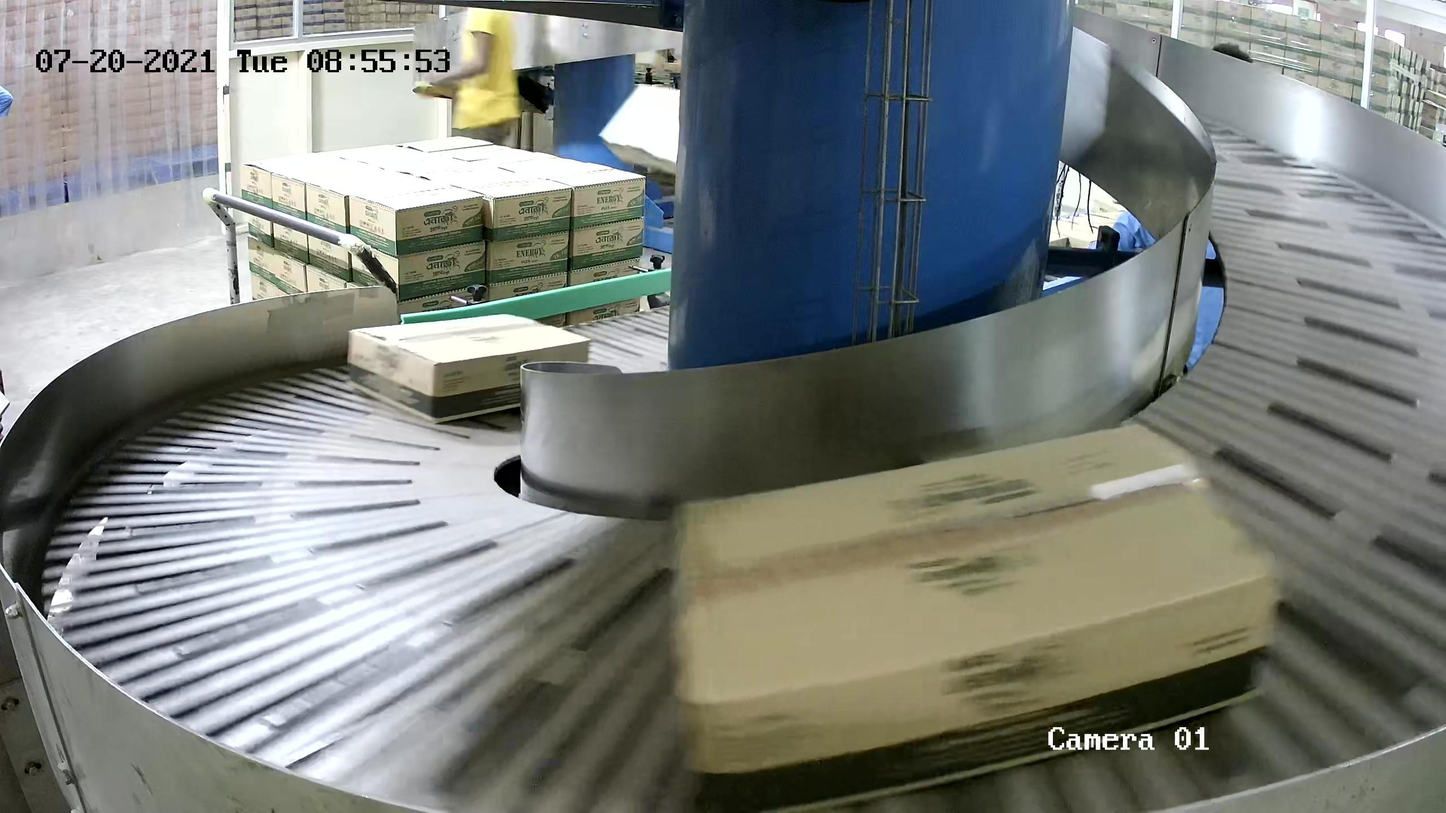Box: (673, 422, 1277, 813), (348, 312, 591, 426)
